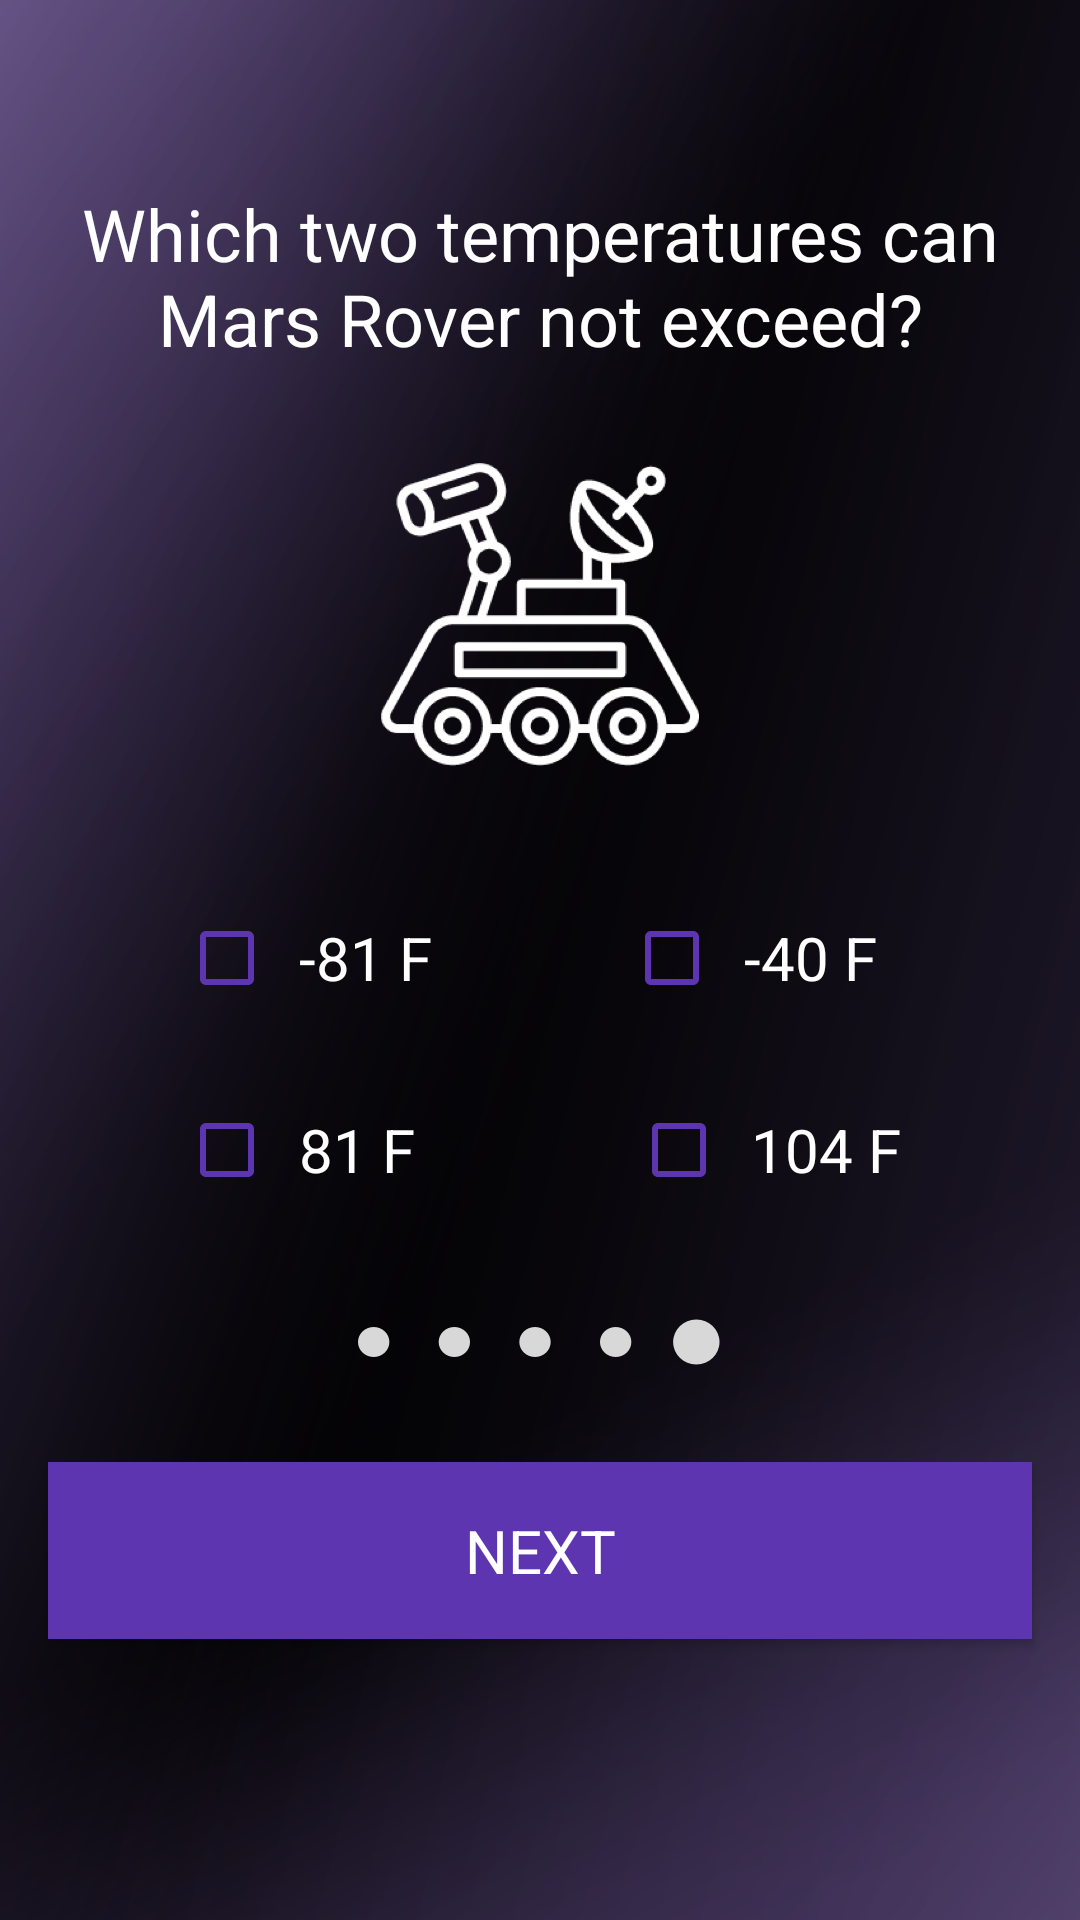

Screen size 1080*1920. Icon name, then its center in pixels as (x=x, y=y):
marsbuggy: (x=540, y=614)
